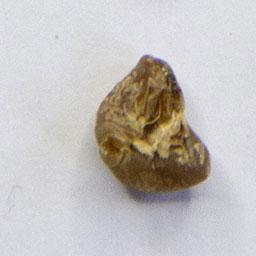defect: (91, 52, 214, 196)
